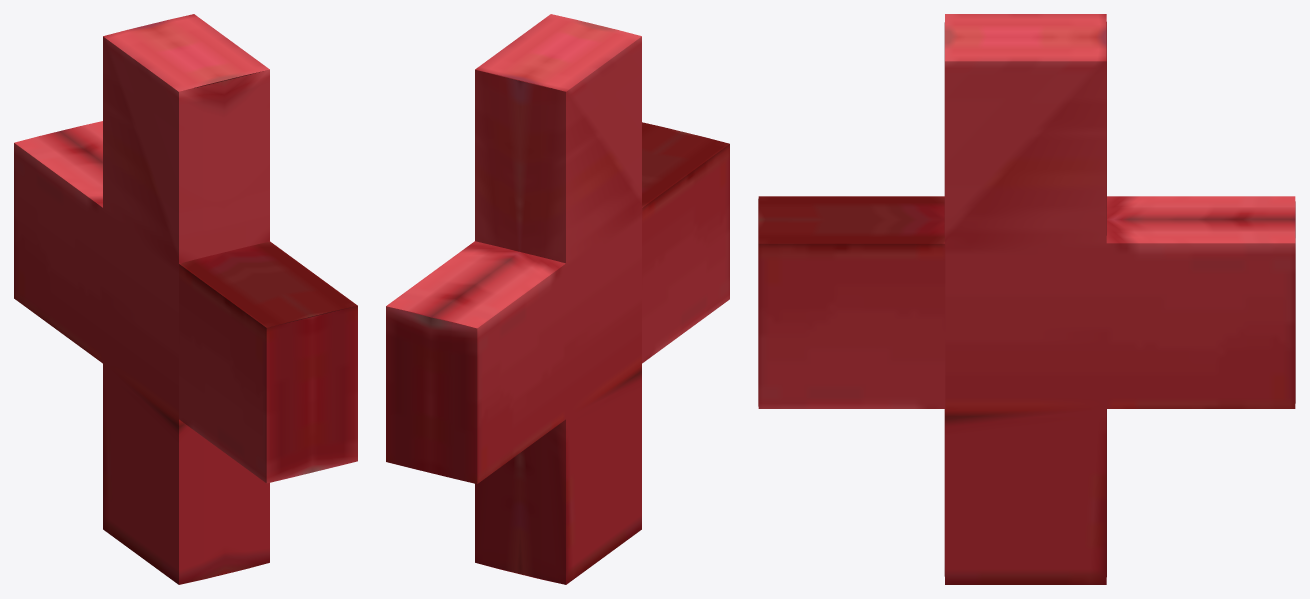
Rendered from 0206_ZhengDianPaiPai_Mesh_008.glb.
The picture shows the model from 3 angles, left to right: view 1: azimuth 30°, elevation 25°; view 2: azimuth 150°, elevation 25°; view 3: azimuth 270°, elevation 25°; orthographic projection. The views are drawn at different scales.
Bounding box in the file's own units: 0.4252 × 2.2 × 2.04.
Materials: 1 (1 with a texture image).
